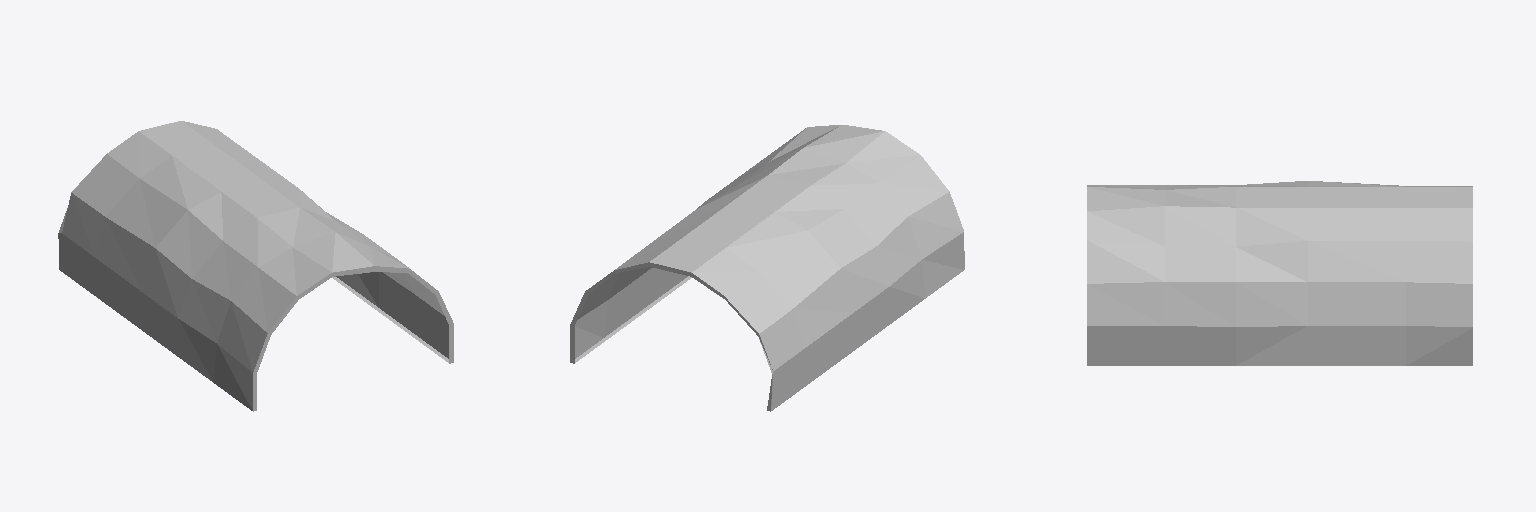
File: Old_Shelter.obj
3 views of the same model, side by side, from view 1: azimuth 30°, elevation 25°; view 2: azimuth 150°, elevation 25°; view 3: azimuth 270°, elevation 25° (orthographic).
Parts seen in each view (by area): view 1: pCube1; view 2: pCube1; view 3: pCube1.
Boxes of the visible parts, <box> form: pCube1: <box>58,121,453,411</box>; pCube1: <box>570,125,964,411</box>; pCube1: <box>1087,181,1472,365</box>.
Bounding box in the file's own units: 4.25 × 2.44 × 7.05.